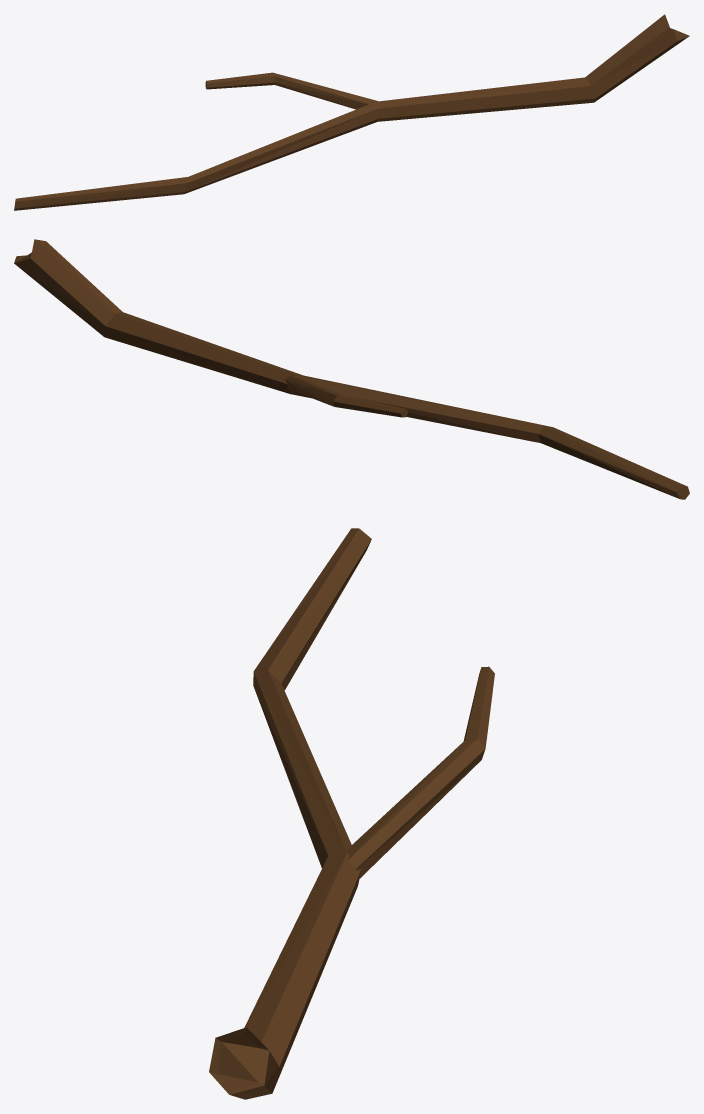
Rendered from tree-beech-branch-a.gltf.
The picture shows the model from 3 angles, top to bottom: view 1: azimuth 30°, elevation 25°; view 2: azimuth 150°, elevation 25°; view 3: azimuth 270°, elevation 25°; orthographic projection. The views are drawn at different scales.
Visible parts, largest first — view 1: tree-beech-branch-a; view 2: tree-beech-branch-a; view 3: tree-beech-branch-a.
Boxes of the visible parts, bbox=[...] form: tree-beech-branch-a: bbox=[14, 14, 689, 210]; tree-beech-branch-a: bbox=[14, 239, 689, 499]; tree-beech-branch-a: bbox=[209, 528, 494, 1099].
Bounding box in the file's own units: 0.0365 × 0.00384 × 0.00701.
